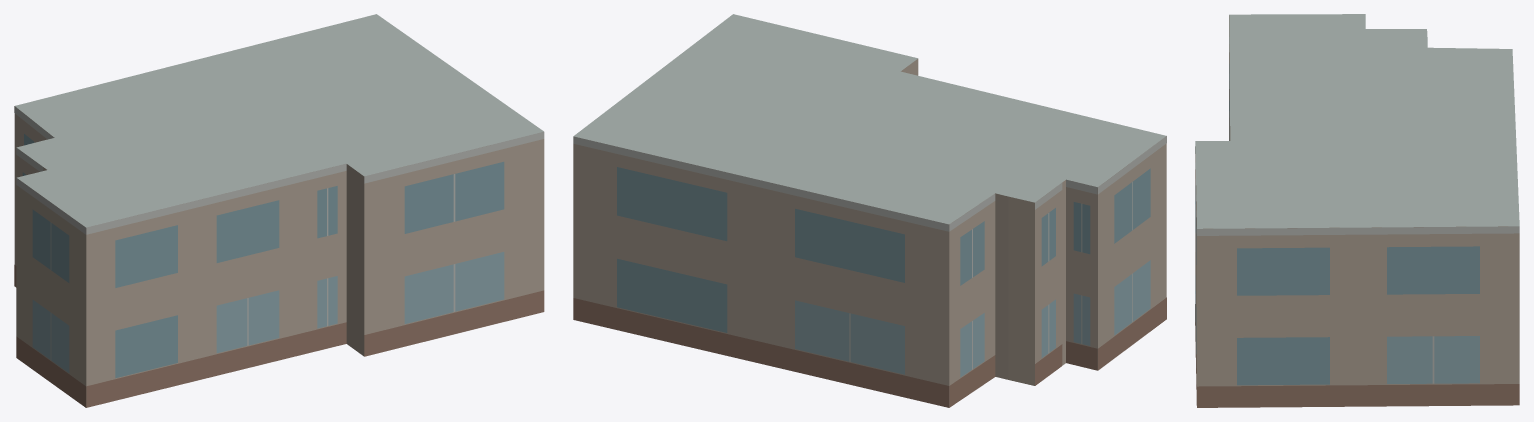
File: survey-upis-32944098.glb
3 views of the same model, side by side, from view 1: azimuth 30°, elevation 25°; view 2: azimuth 150°, elevation 25°; view 3: azimuth 270°, elevation 25° (orthographic). The views are drawn at different scales.
Parts seen in each view (by area): view 1: survey-upis-32944098.tmp; view 2: survey-upis-32944098.tmp; view 3: survey-upis-32944098.tmp.
Boxes of the visible parts, box(x1,y1,x2,y2) form: survey-upis-32944098.tmp: box(14, 14, 544, 407); survey-upis-32944098.tmp: box(573, 14, 1166, 407); survey-upis-32944098.tmp: box(1195, 14, 1519, 407).
Size of the model in its own units: 15.71 by 6.1 by 10.03.
